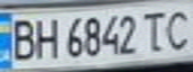2: (115, 10, 142, 56)
4: (100, 11, 124, 56)
6: (60, 13, 84, 60)
8: (81, 12, 103, 59)
B: (6, 16, 39, 62)
C: (160, 4, 193, 52)
H: (30, 15, 60, 61)
T: (139, 7, 172, 55)
